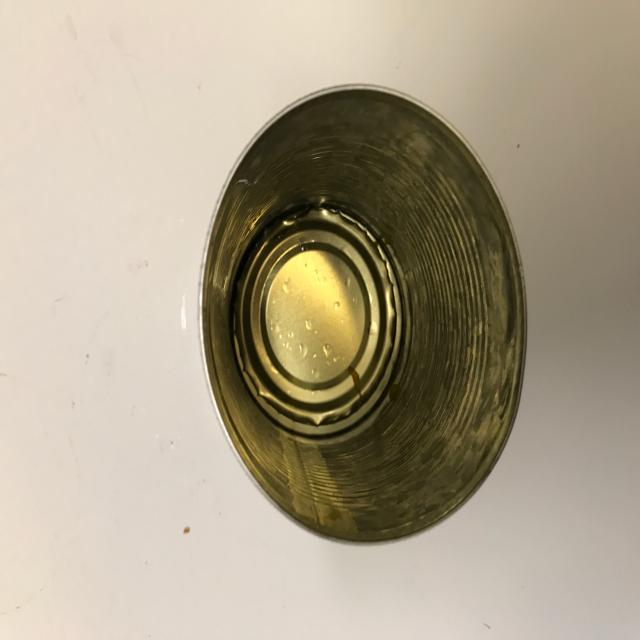metal: (200, 81, 530, 548)
